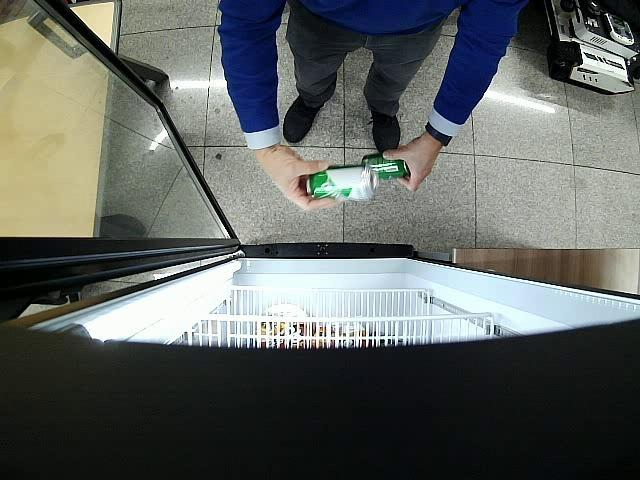12_chilsungCider: (307, 165, 379, 200), (362, 154, 410, 180)
